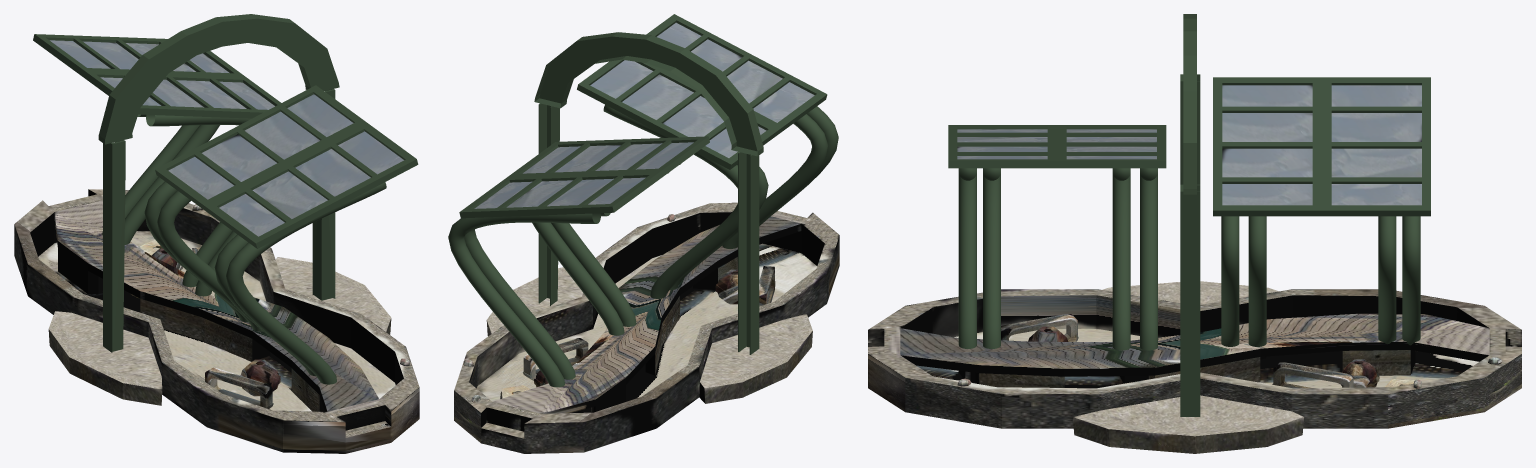
The model's file is mark1.fbx.
The picture shows the model from 3 angles, left to right: view 1: azimuth 30°, elevation 25°; view 2: azimuth 150°, elevation 25°; view 3: azimuth 270°, elevation 25°; orthographic projection. The views are drawn at different scales.
Parts seen in each view (by area): view 1: Cube.010; view 2: Cube.010; view 3: Cube.010.
Part boxes in pixels (x1,y1,x2,y2): Cube.010: (14,14,419,453); Cube.010: (448,14,839,453); Cube.010: (868,14,1521,453).
Bounding box in the file's own units: 216 × 225 × 384.
Materials: 6 (5 with a texture image).
